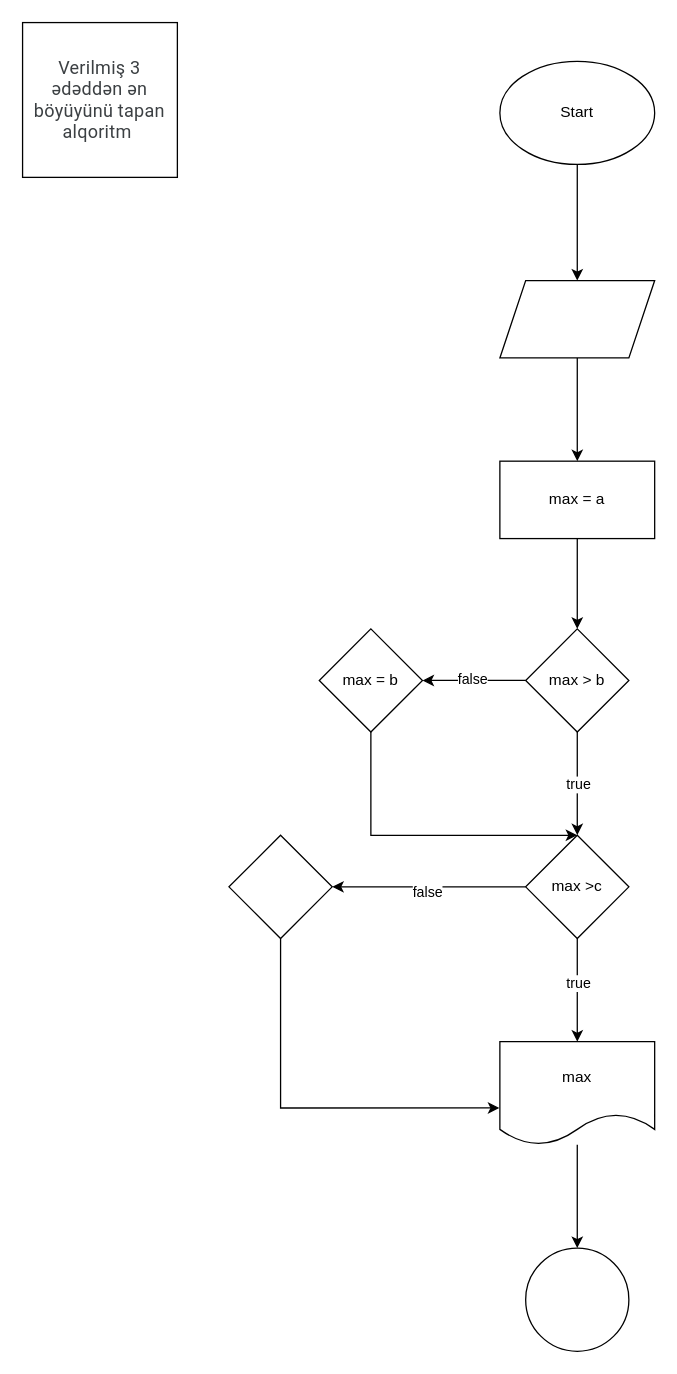
The diagram is 677 pixels wide and 1374 high, and some of its shapes have lost their labels. Here are the shapes that lost their labels. From the top down, the centre of each, then its label:
At (577,318): "a,b,c".
At (280,886): "max = c".
At (576,1299): "End".
